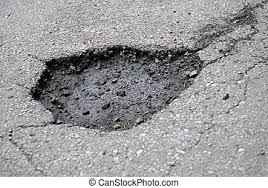potholes: (31, 42, 205, 131)
